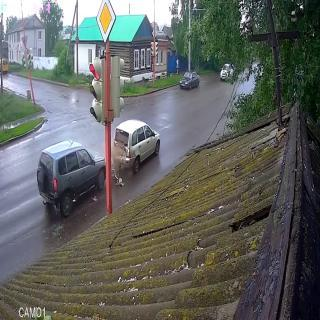Vehicle-Crash_Detected: (30, 119, 162, 197)
